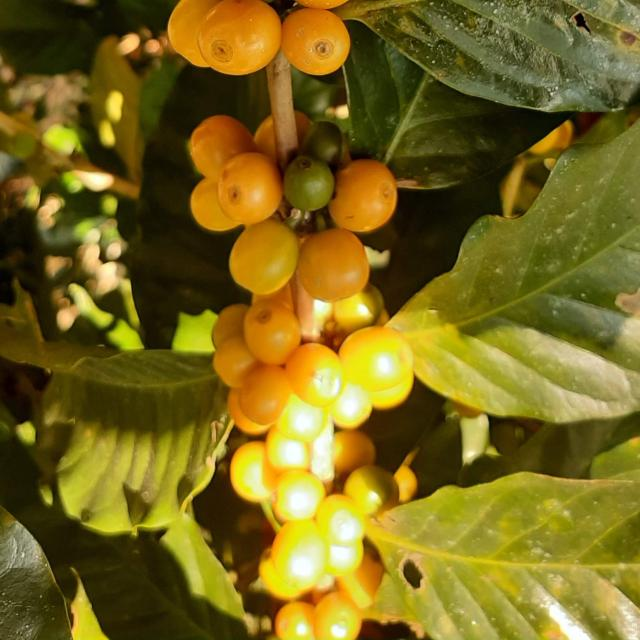green: (284, 155, 334, 210), (344, 466, 399, 516), (302, 121, 343, 166)
red: (339, 326, 414, 409), (197, 0, 281, 74), (229, 217, 299, 295), (297, 228, 370, 302), (329, 158, 398, 232), (218, 152, 282, 225), (282, 7, 350, 74), (190, 115, 256, 180), (271, 520, 329, 591), (285, 343, 344, 408), (243, 299, 301, 365), (167, 0, 221, 66), (239, 364, 292, 425), (337, 549, 385, 610), (230, 442, 277, 503), (258, 549, 310, 601), (190, 178, 241, 231), (273, 470, 326, 521), (316, 495, 365, 546), (276, 394, 328, 442), (213, 335, 259, 388), (314, 593, 362, 640), (328, 382, 373, 429), (227, 388, 271, 436), (266, 427, 310, 472), (212, 304, 249, 348), (275, 602, 315, 640), (326, 541, 364, 577)
yellow: (334, 430, 376, 482), (333, 290, 376, 333)
